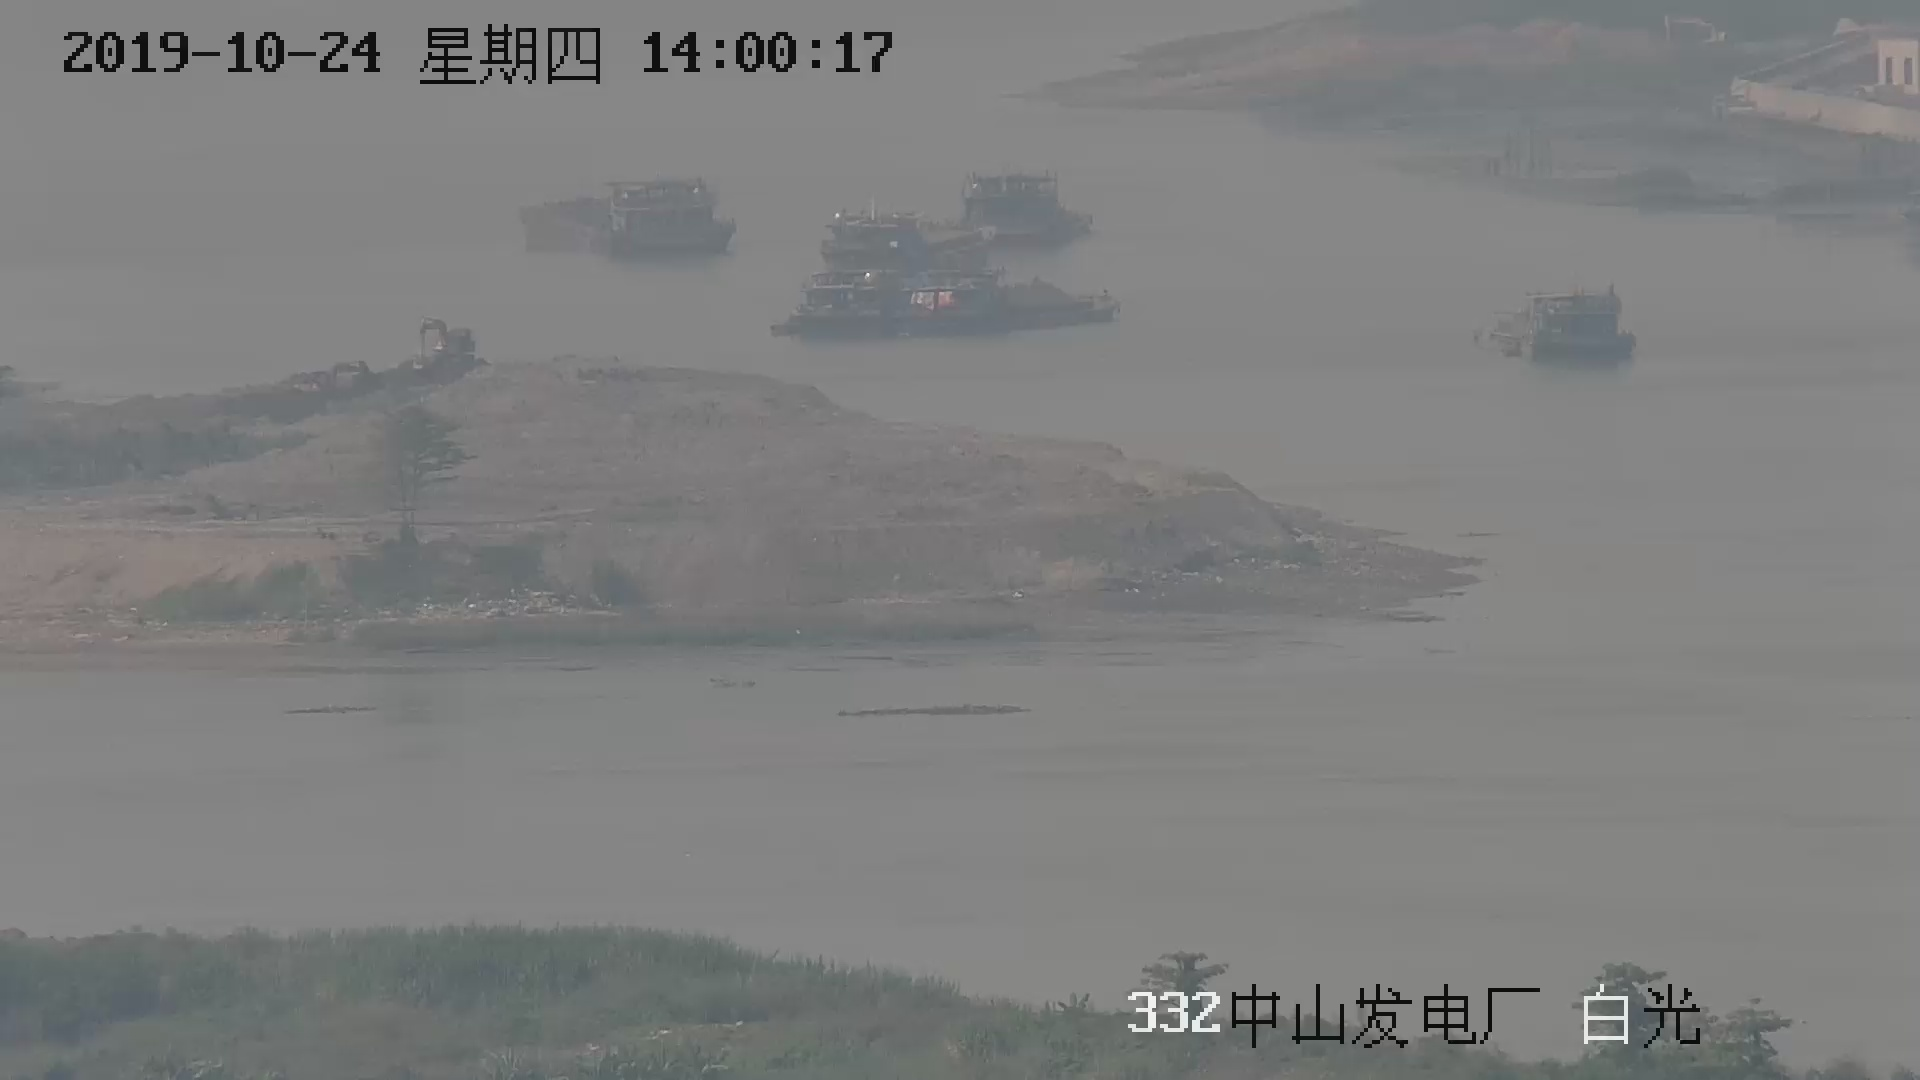ship: (775, 204, 1105, 342), (520, 181, 738, 258), (1472, 282, 1634, 367)
